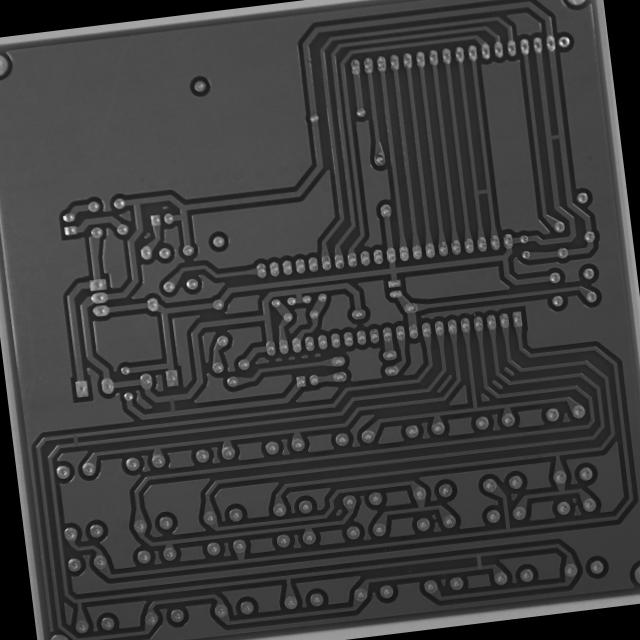short: (467, 548, 489, 572), (470, 183, 494, 202), (163, 390, 179, 418), (541, 130, 565, 146), (67, 428, 82, 449)
